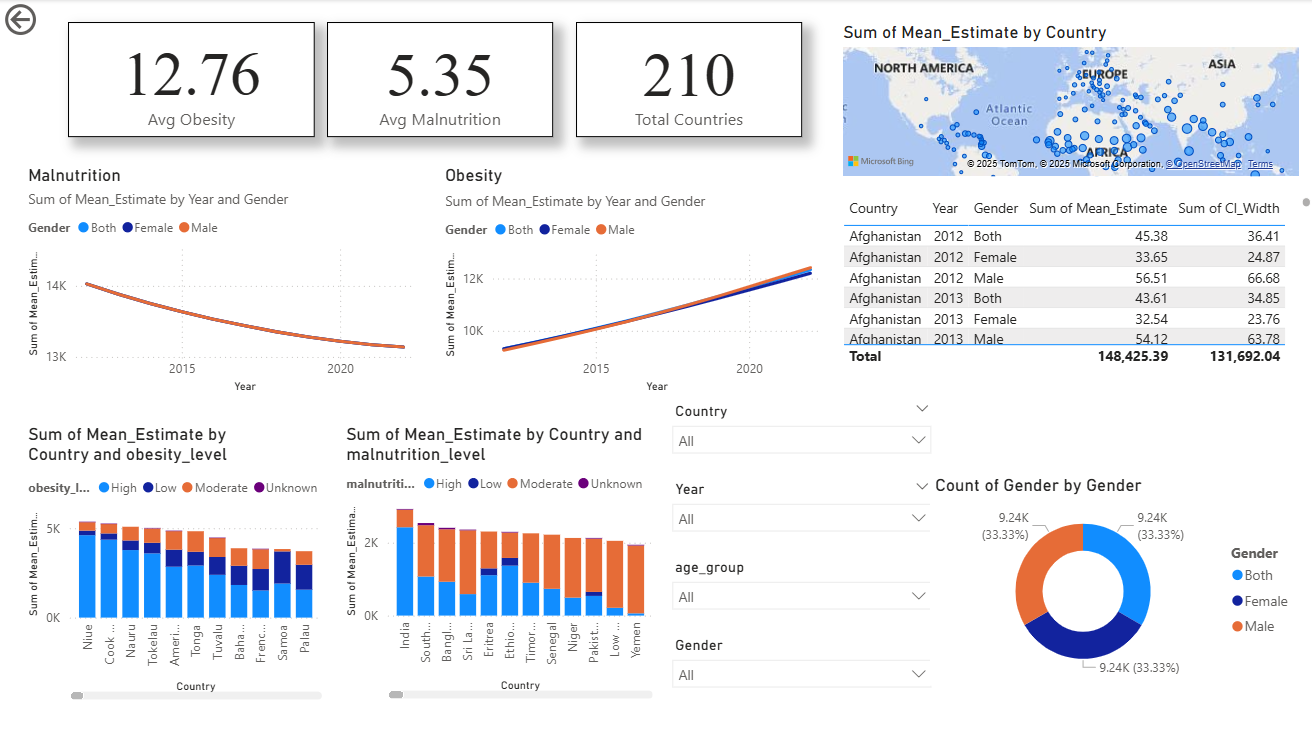

What the dashboard file says about the page in this screenshot:
{"tool":"powerbi","page":{"name":"Page 1","canvas":[1280,720],"ordinal":0},"visuals":[{"type":"card","fields":{"Values":["Obesity Data.Avg Obesity"]},"box":[66.1,22.4,240.2,111.9],"z":0},{"type":"card","fields":{"Values":["Malnutrition Data.Avg Malnutrition"]},"box":[318,22,220,112],"z":1000},{"type":"card","fields":{"Values":["Obesity Data.Total Countries"]},"box":[560,22,220,112],"z":2000},{"type":"lineChart","title":"Malnutrition","fields":{"Category":["Malnutrition Data.Year"],"Y":["Sum(Malnutrition Data.Mean_Estimate)"],"Series":["Obesity Data.Gender"]},"box":[22.4,161.5,388.1,225.7],"z":3000},{"type":"lineChart","title":"Obesity","fields":{"Category":["Obesity Data.Year"],"Y":["Sum(Obesity Data.Mean_Estimate)"],"Series":["Obesity Data.Gender"]},"box":[428,161.5,378.4,225.7],"z":4000},{"type":"map","fields":{"Category":["Malnutrition Data.Country"],"Size":["Sum(Malnutrition Data.Mean_Estimate)"]},"box":[815.1,22.4,453.3,154.7],"z":5000},{"type":"columnChart","fields":{"Series":["Obesity Data.obesity_level"],"Category":["Obesity Data.Country"],"Y":["Sum(Obesity Data.Mean_Estimate)"]},"box":[22.4,413.4,295.7,273.3],"z":6000},{"type":"columnChart","fields":{"Category":["Malnutrition Data.Country"],"Y":["Sum(Malnutrition Data.Mean_Estimate)"],"Series":["Malnutrition Data.malnutrition_level"]},"box":[331.7,413.4,308.3,272.3],"z":7000},{"type":"slicer","fields":{"Values":["Malnutrition Data.Country"]},"box":[643.9,387.1,272.3,75.9],"z":8000},{"type":"slicer","fields":{"Values":["Malnutrition Data.Year"]},"box":[643.9,463,272.3,75.9],"z":9000},{"type":"slicer","fields":{"Values":["Malnutrition Data.Gender"]},"box":[643.9,614.7,272.3,75.9],"z":10000},{"type":"slicer","fields":{"Values":["Malnutrition Data.age_group"]},"box":[643.9,538.8,272.3,75.9],"z":11000},{"type":"tableEx","fields":{"Values":["Malnutrition Data.Country","Malnutrition Data.Year","Malnutrition Data.Gender","Sum(Malnutrition Data.Mean_Estimate)","Sum(Malnutrition Data.CI_Width)"]},"box":[815.1,187.7,464.9,173.1],"z":12000},{"type":"actionButton","box":[0,0,100,40],"z":13000},{"type":"donutChart","fields":{"Y":["CountNonNull(Malnutrition Data.Gender)"],"Category":["Malnutrition Data.Gender"]},"box":[904.6,463,363.8,205.2],"z":14000}]}

Visuals, with their boxes in screenshot pixels (x1, y1, x2, y2), scaled from the page's 1280x720 canvas onto the 1312x736 screenshot:
card - Obesity Data.Avg Obesity: detection(68, 23, 314, 137)
card - Malnutrition Data.Avg Malnutrition: detection(326, 22, 551, 137)
card - Obesity Data.Total Countries: detection(574, 22, 799, 137)
"Malnutrition" lineChart: detection(23, 165, 421, 396)
"Obesity" lineChart: detection(439, 165, 827, 396)
map - Malnutrition Data.Country x Sum(Malnutrition Data.Mean_Estimate): detection(835, 23, 1300, 181)
columnChart - Obesity Data.obesity_level x Obesity Data.Country: detection(23, 423, 326, 702)
columnChart - Malnutrition Data.Country x Sum(Malnutrition Data.Mean_Estimate): detection(340, 423, 656, 701)
slicer - Malnutrition Data.Country: detection(660, 396, 939, 473)
slicer - Malnutrition Data.Year: detection(660, 473, 939, 551)
slicer - Malnutrition Data.Gender: detection(660, 628, 939, 706)
slicer - Malnutrition Data.age_group: detection(660, 551, 939, 628)
tableEx - Malnutrition Data.Country x Malnutrition Data.Year: detection(835, 192, 1311, 369)
actionButton: detection(0, 0, 102, 41)
donutChart - CountNonNull(Malnutrition Data.Gender) x Malnutrition Data.Gender: detection(927, 473, 1300, 683)
